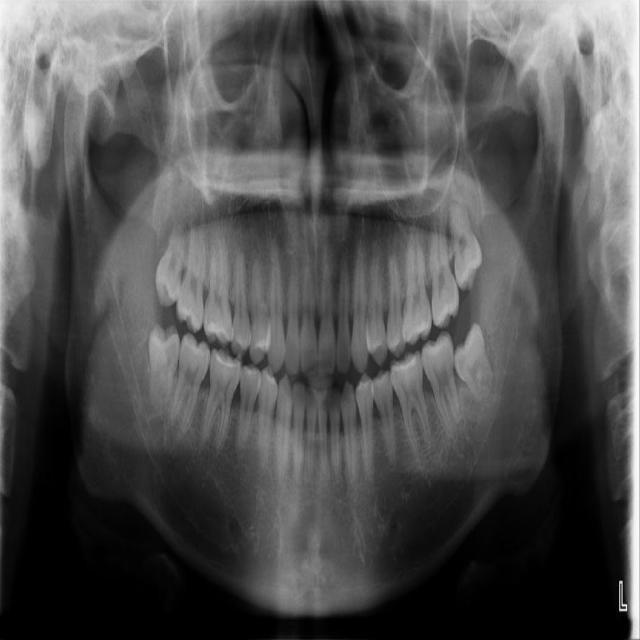3M ESPE Implant: (149, 207, 193, 311)
73: (596, 576, 608, 596)
BioHorizons Implant: (425, 210, 462, 330)
BioLife Implant: (448, 200, 486, 292)
Biomet 3i Implant: (445, 320, 499, 406)
Blue Sky Bio Implant: (418, 330, 463, 434)
Caries: (174, 221, 210, 334)
Implant: (166, 331, 214, 442)
Keystone Dental Implant: (148, 322, 183, 417)
